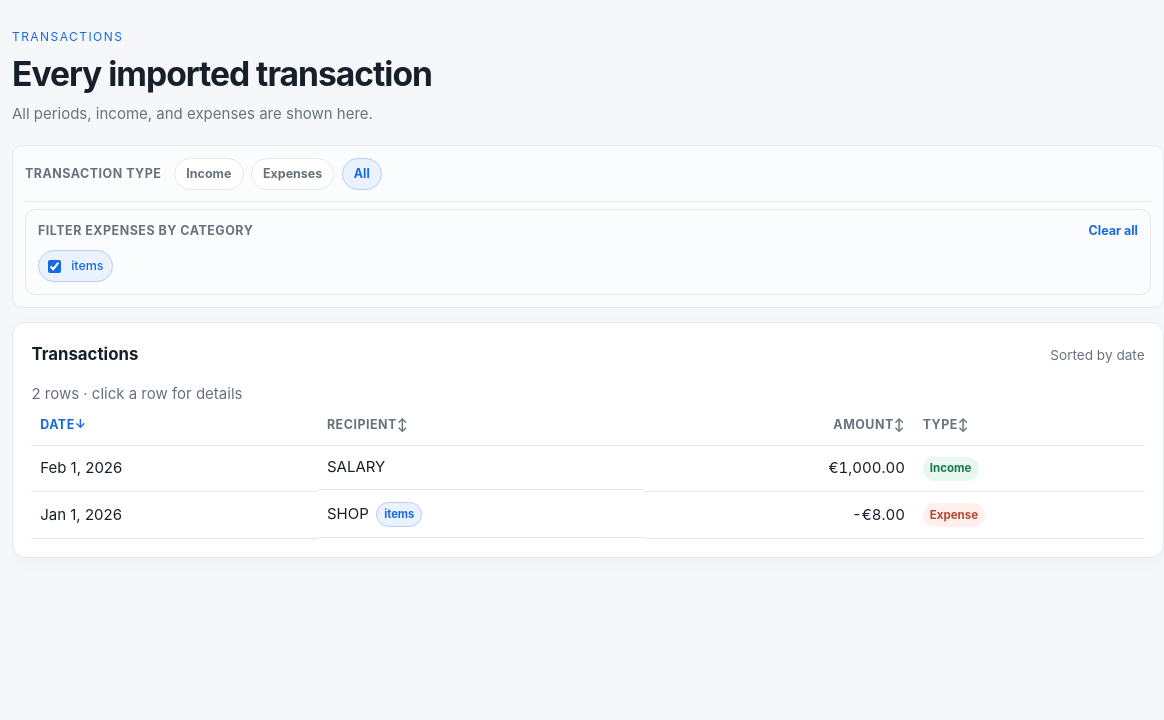
Test: all transactions › shows every period and includes income without a category
Expected: the heading "Every imported transaction" is shown, x1=12 y1=49 x2=432 y2=100
Expected: the text "SALARY" is shown, x1=327 y1=456 x2=385 y2=479
Click the button "Income": {"x": 209, "y": 174} x1=174 y1=158 x2=244 y2=190
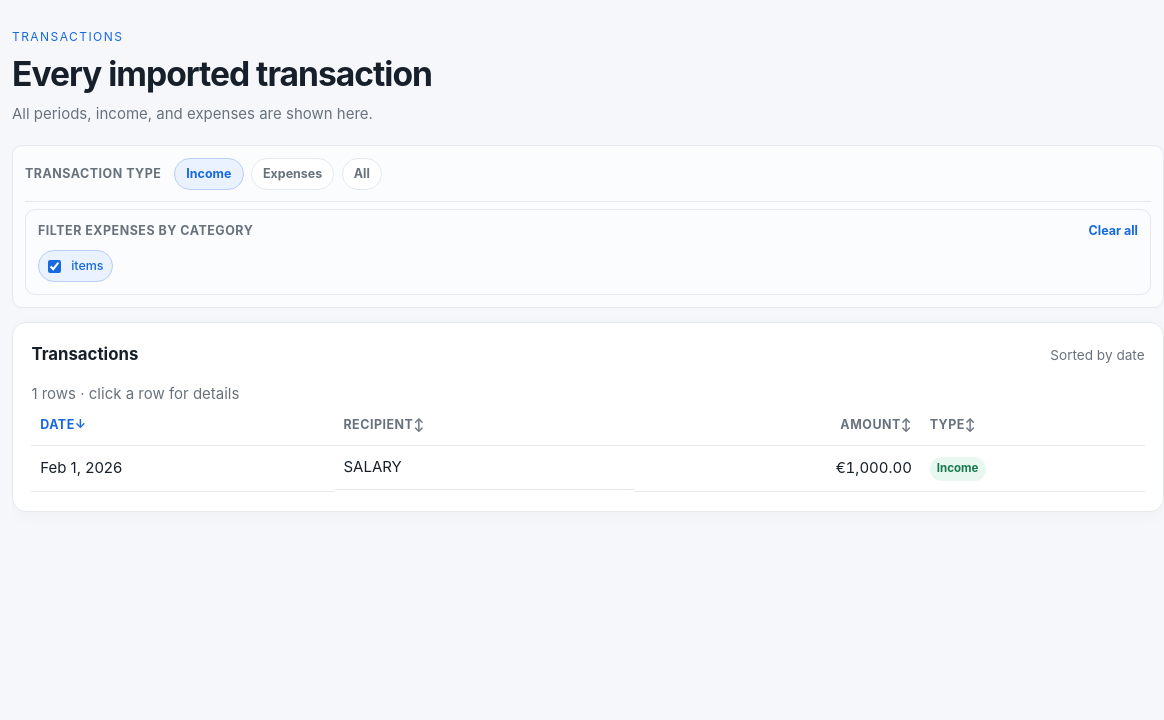
Expected: the text "SALARY" is shown, x1=343 y1=456 x2=402 y2=479
Expected: the text "SHOP" is gone
Click the checkbox labelled "items": {"x": 54, "y": 266} x1=48 y1=260 x2=61 y2=272
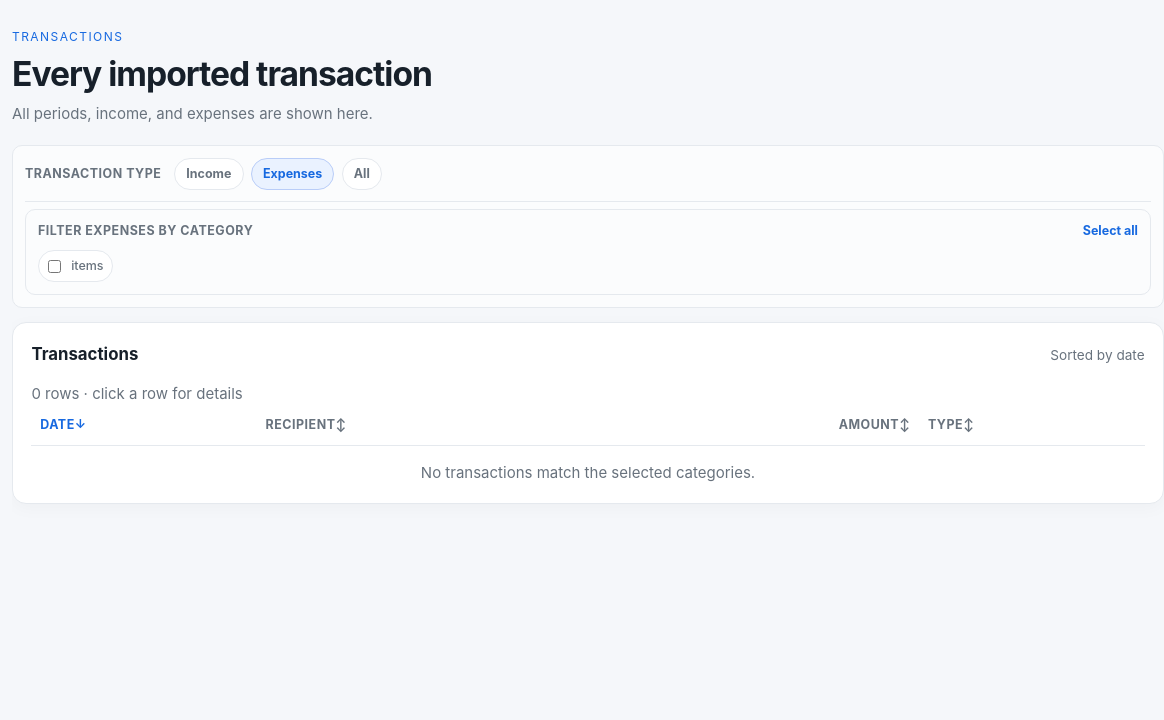
Expected: the button "Expenses" is shown, x1=251 y1=158 x2=334 y2=190
Expected: the text "SALARY" is gone
